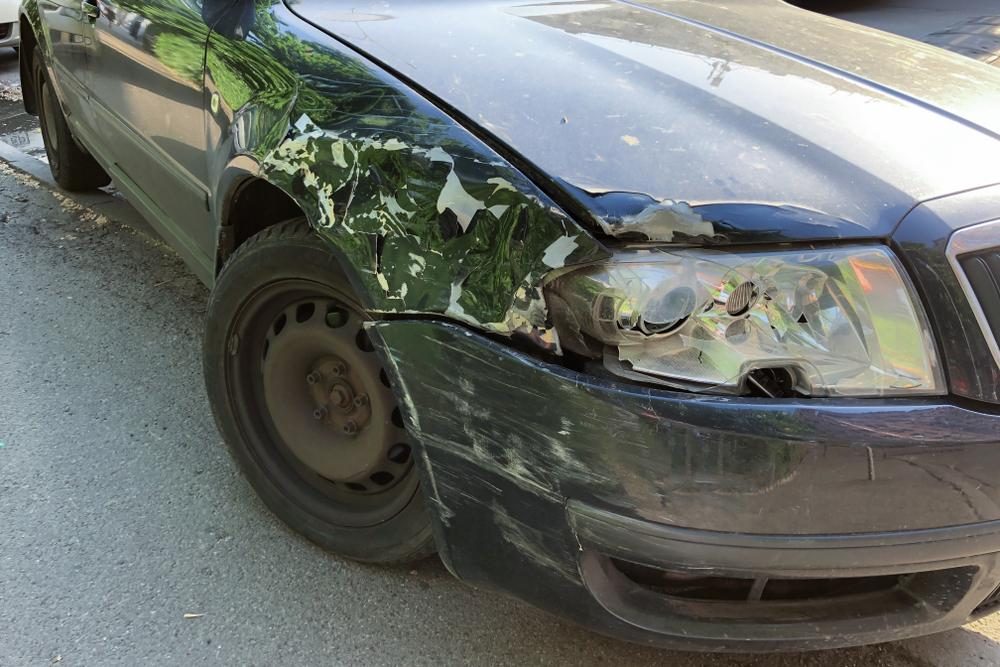dent: (262, 81, 585, 327)
lamp broken: (564, 240, 948, 398)
scratch: (366, 327, 660, 590)
